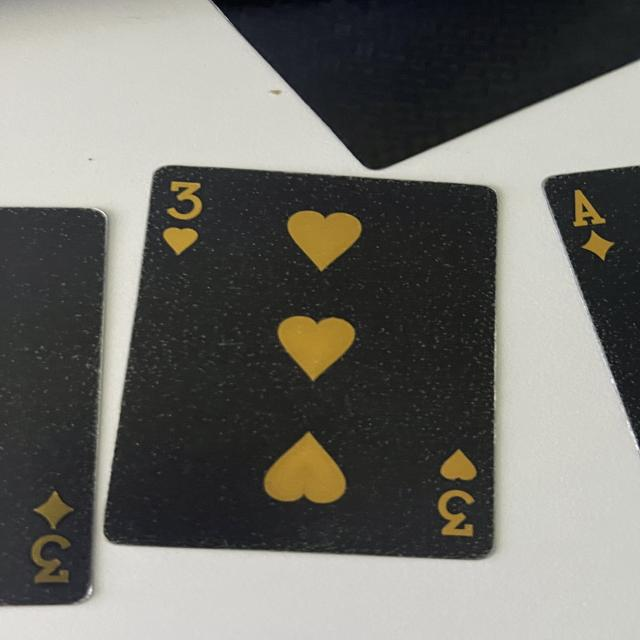3D: (18, 487, 87, 598)
3H: (424, 443, 484, 552), (160, 170, 212, 266)
AD: (562, 180, 623, 268)
